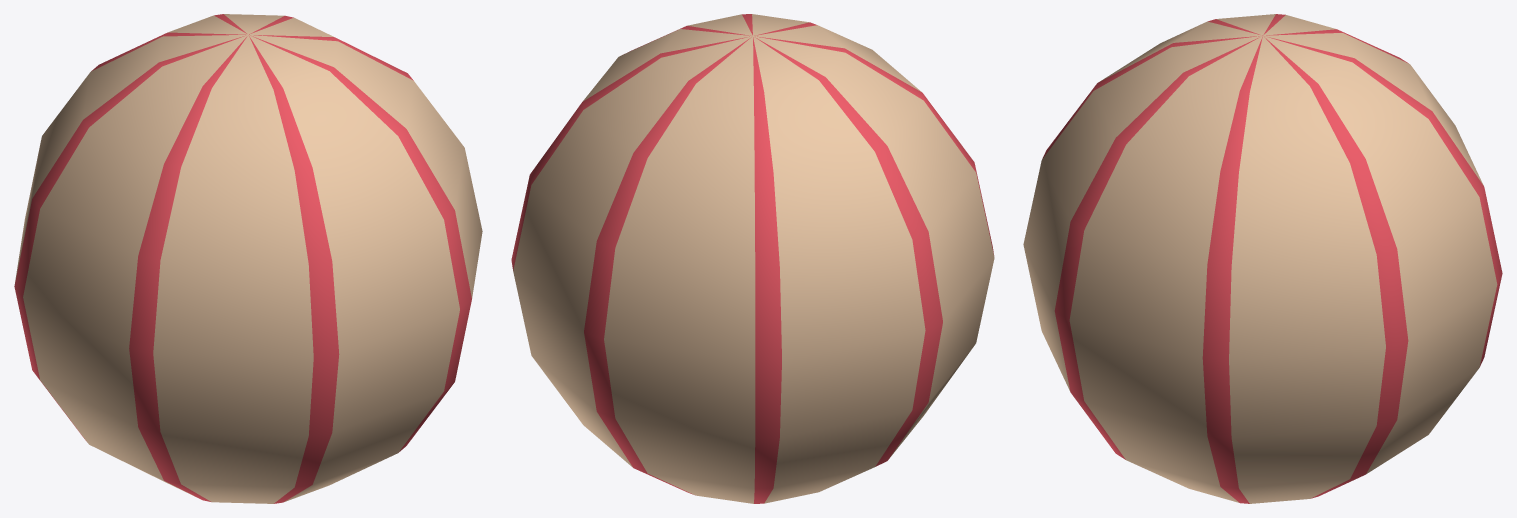
The model's file is SM-BallWeird-001.fbx.
3 views of the same model, side by side, from view 1: azimuth 30°, elevation 25°; view 2: azimuth 150°, elevation 25°; view 3: azimuth 270°, elevation 25° (orthographic).
Visible parts, largest first — view 1: Ball.Weird.001; view 2: Ball.Weird.001; view 3: Ball.Weird.001.
Part boxes in pixels (x1=…): Ball.Weird.001: x1=14, y1=14, x2=482, y2=503; Ball.Weird.001: x1=511, y1=14, x2=994, y2=503; Ball.Weird.001: x1=1023, y1=14, x2=1502, y2=503.
Size of the model in its own units: 19.45 by 20 by 19.45.
